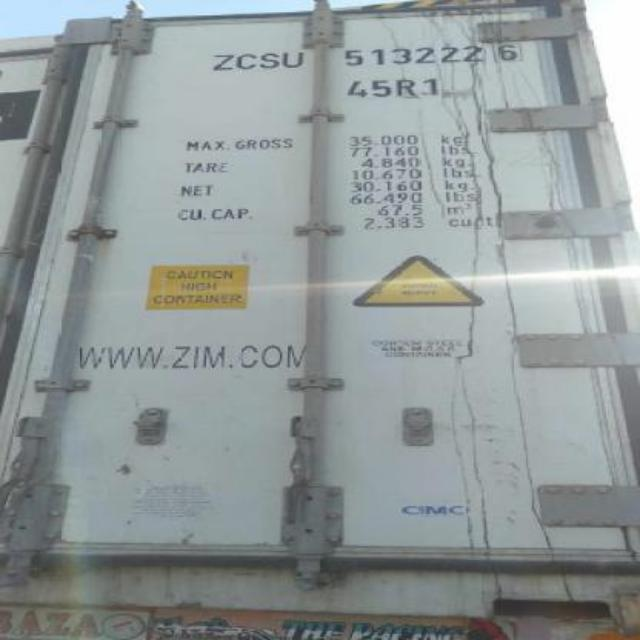1: (370, 48, 386, 66)
2: (438, 45, 462, 65), (460, 45, 484, 65), (414, 46, 436, 64)
3: (392, 49, 412, 66)
5: (342, 49, 363, 66)
6: (494, 43, 520, 63)
C: (234, 52, 258, 70)
S: (258, 54, 280, 70)
U: (280, 52, 304, 68)
Z: (211, 54, 233, 70)
